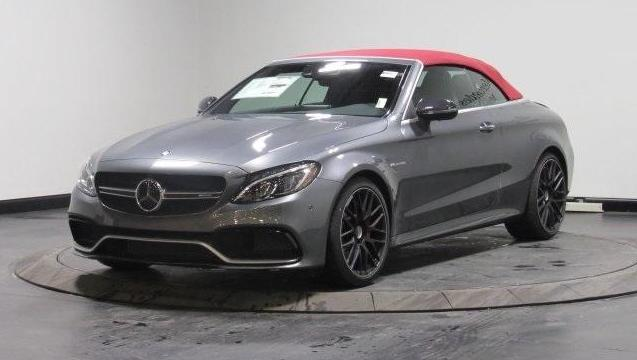C63AMG: (64, 46, 576, 289)
